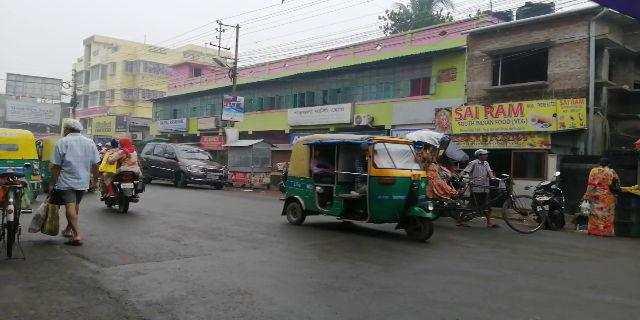Autorickshaw: (286, 135, 438, 240), (1, 128, 46, 200)
Car: (150, 139, 230, 189)
Motorbike: (101, 138, 143, 214)
